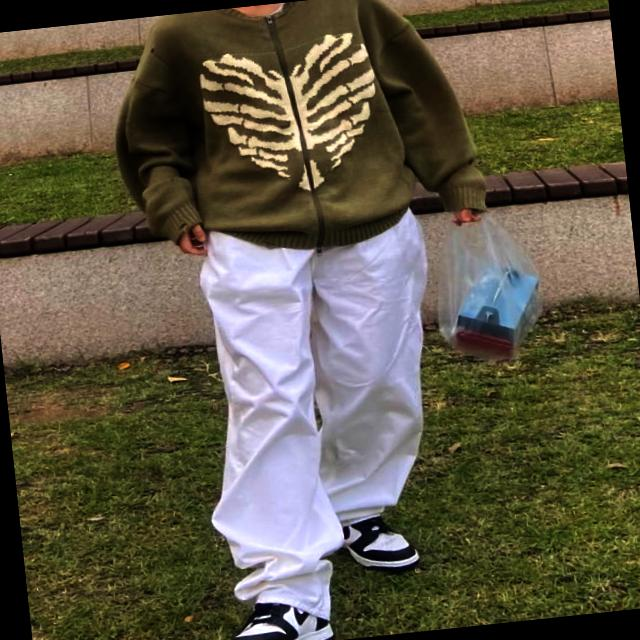cardigan: (96, 0, 485, 267)
cottonpants: (182, 200, 463, 633)
